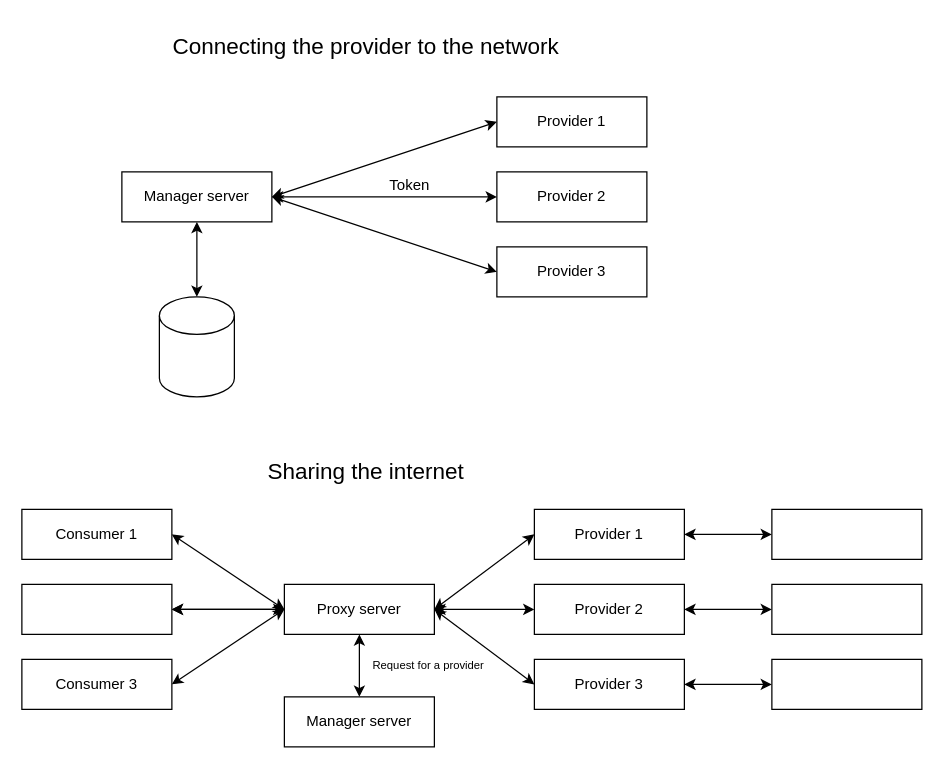
The diagram is 944 pixels wide and 769 high, and some of its shapes have lost their labels. Here are the shapes that lost their labels. From the top down, the centre of each, then its label:
At (196,346): "Database (remote)".
At (846,533): "Destination 1".
At (96,608): "Consumer 2".
At (846,608): "Destination 2".
At (846,683): "Destination 3".
